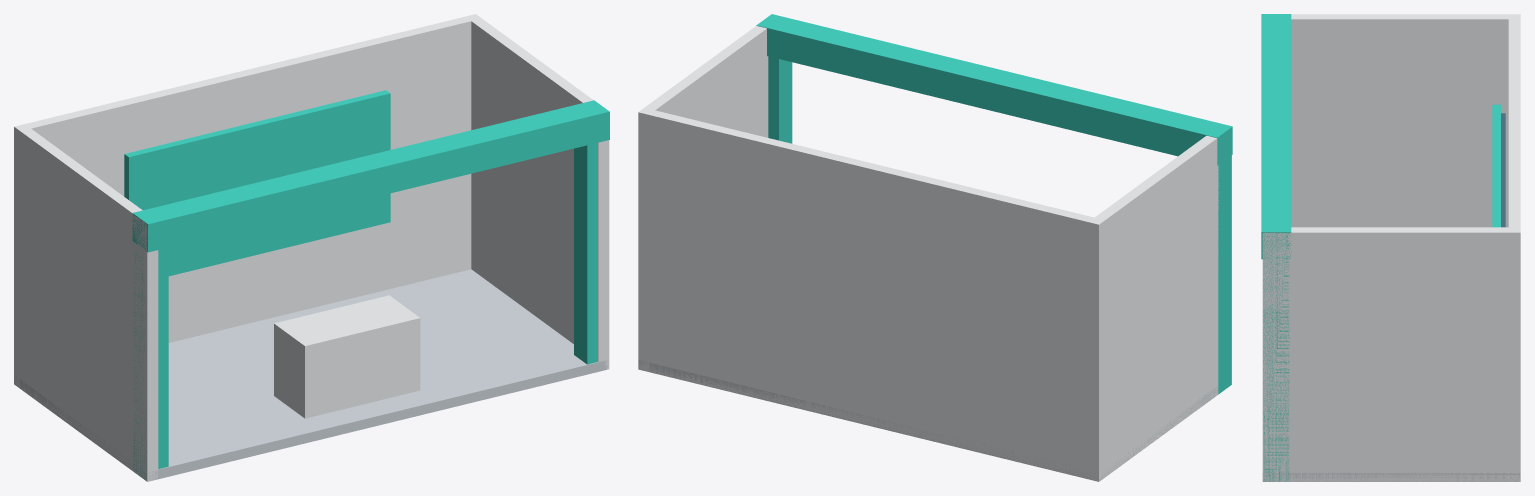
3 views of the same model, side by side, from view 1: azimuth 30°, elevation 25°; view 2: azimuth 150°, elevation 25°; view 3: azimuth 270°, elevation 25° (orthographic). The views are drawn at different scales.
Visible parts, largest first — view 1: Exhibition Booth Concept; view 2: Exhibition Booth Concept; view 3: Exhibition Booth Concept.
Boxes of the visible parts, left/top/right/bottom form: Exhibition Booth Concept: left=14, top=14, right=609, bottom=481; Exhibition Booth Concept: left=638, top=14, right=1232, bottom=481; Exhibition Booth Concept: left=1261, top=14, right=1520, bottom=481.
Size of the model in its own units: 6 by 3.2 by 3.01.
